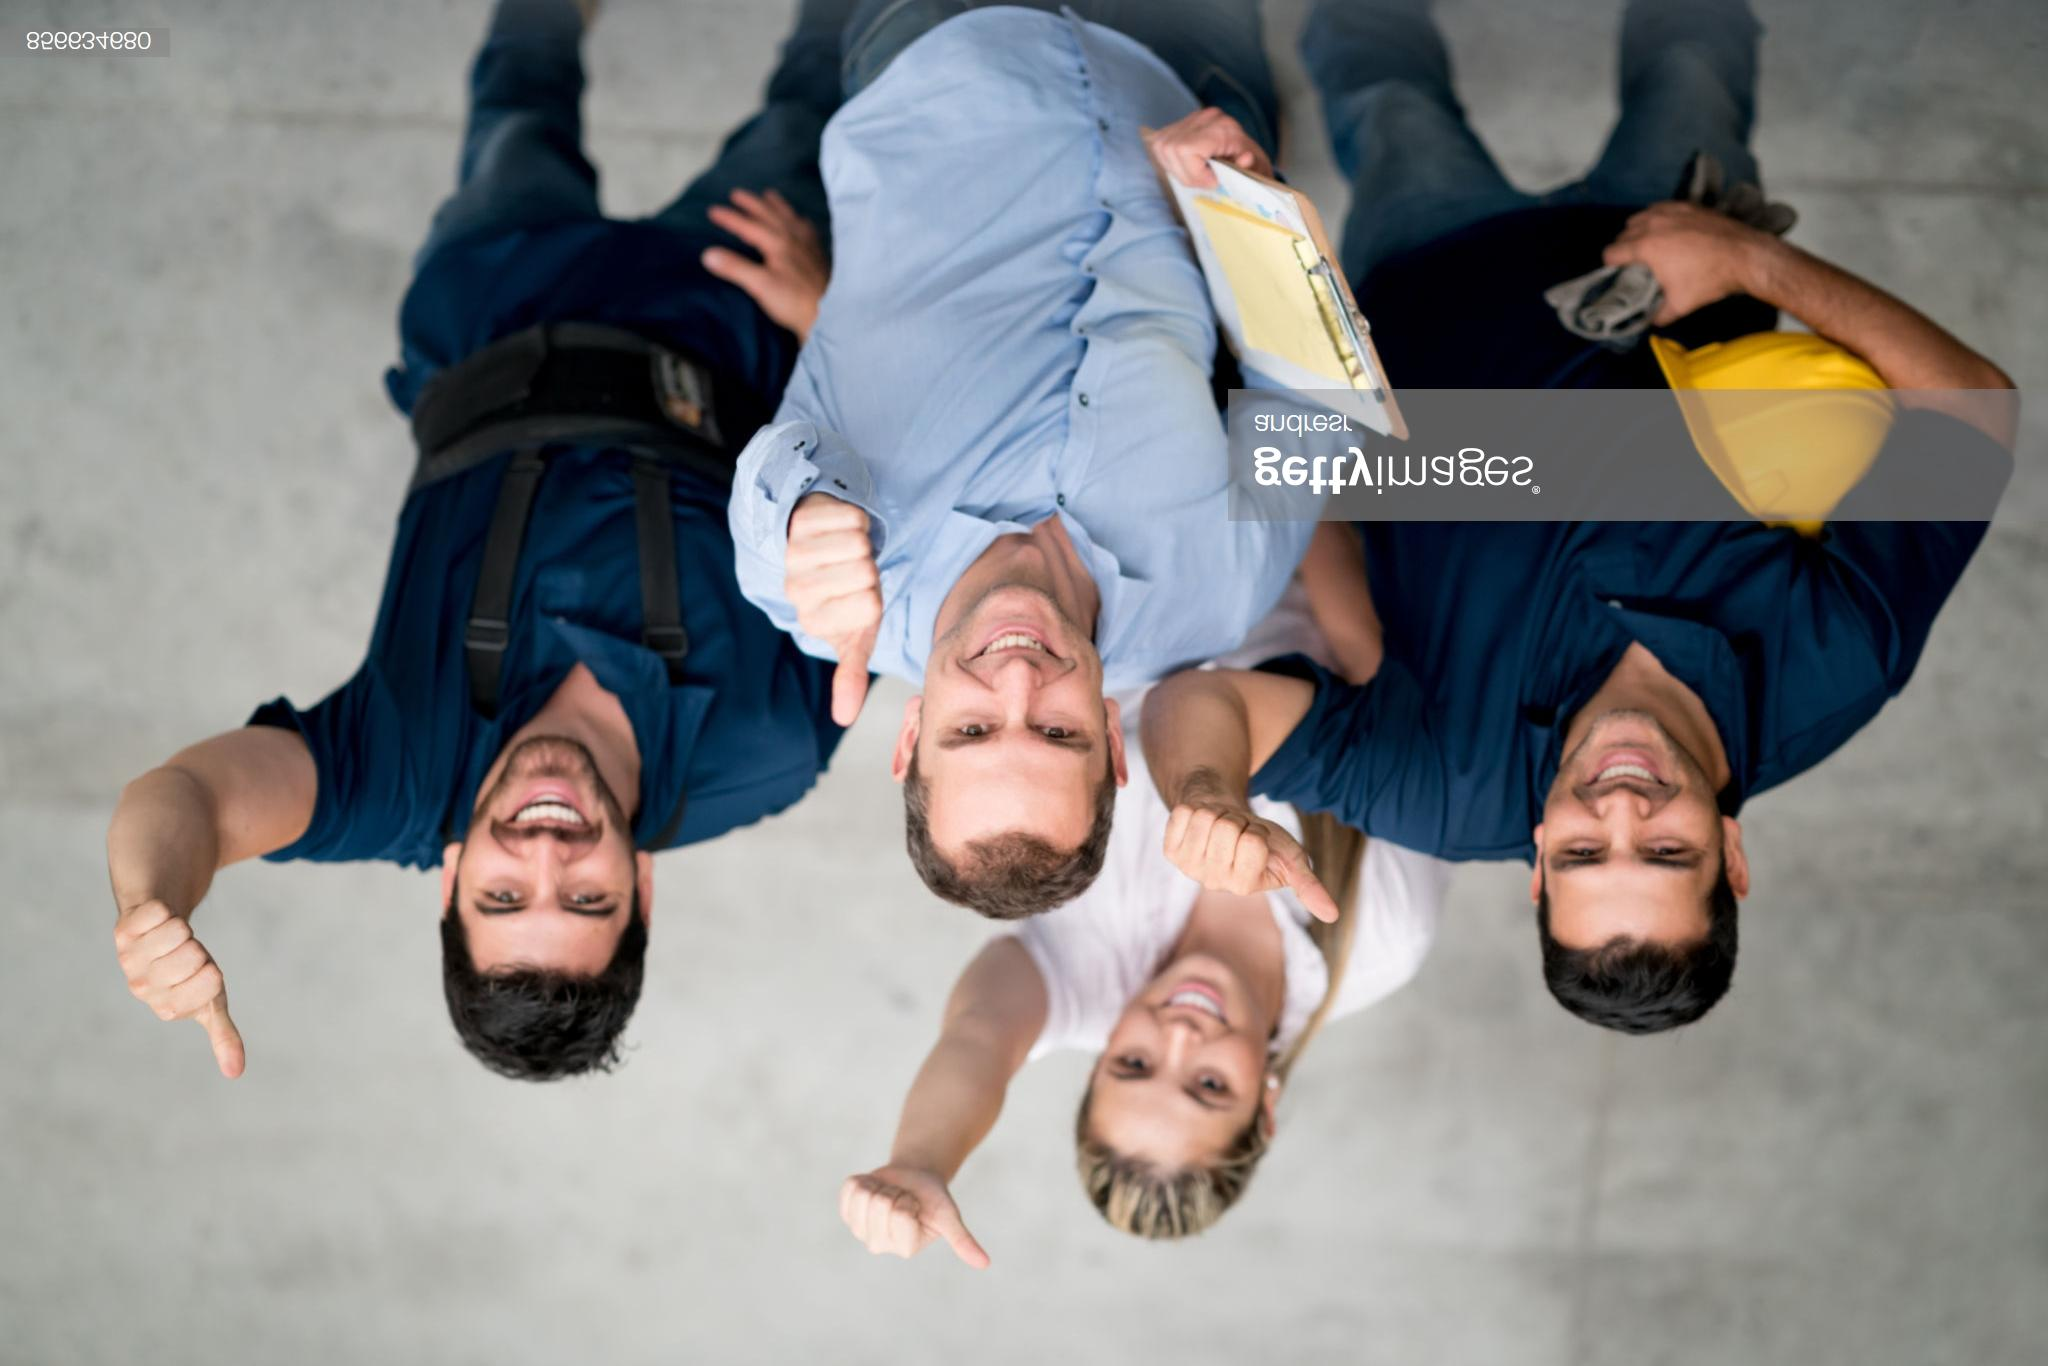thumbsdown: (113, 899, 247, 1079), (783, 505, 882, 729), (1163, 803, 1339, 924), (840, 1171, 990, 1270)
